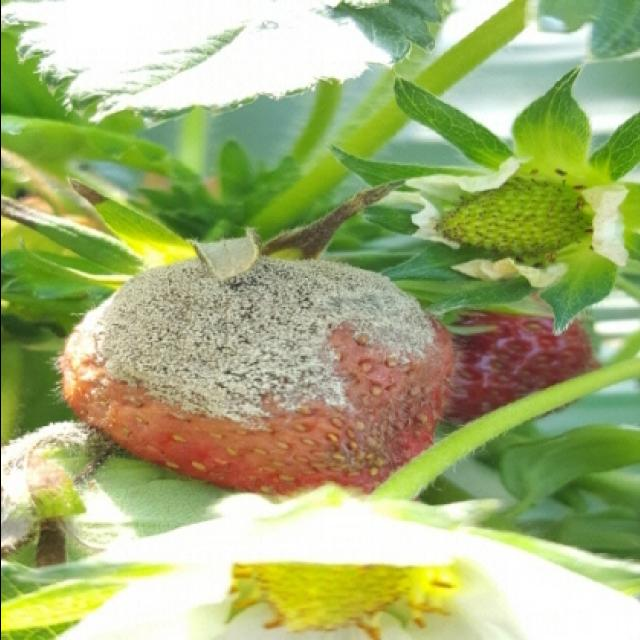Gray Mold: (57, 227, 455, 498)
